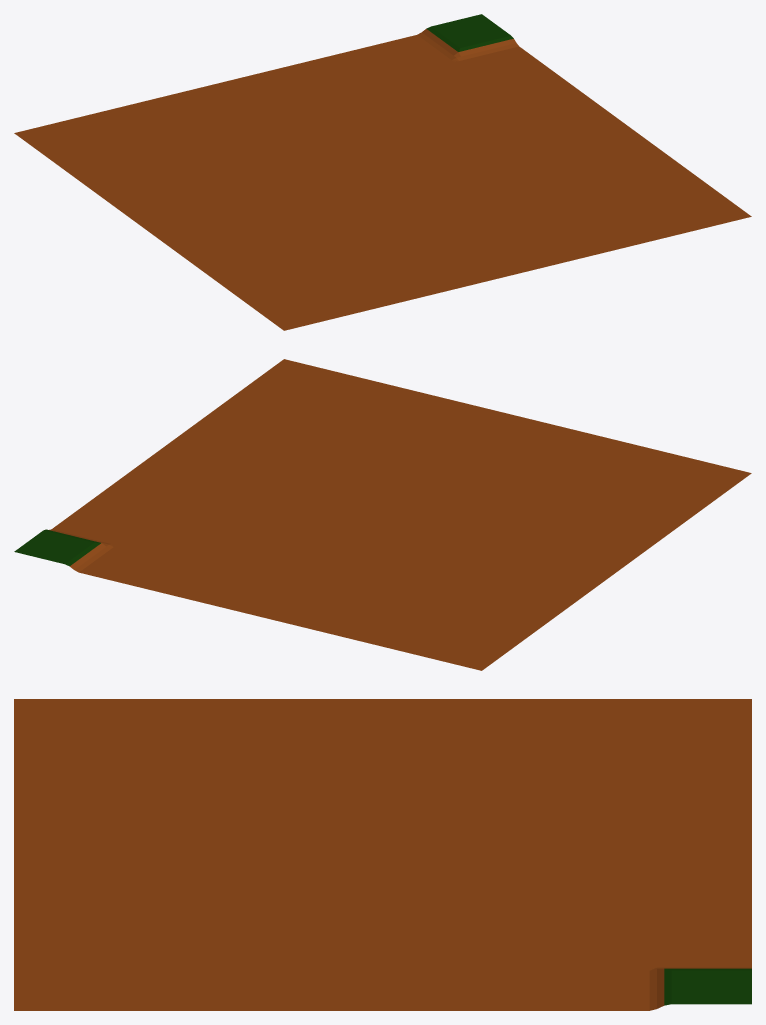
The model's file is Terrain_Part_Plane_17.fbx.
3 renders of one model, top to bottom at view 1: azimuth 30°, elevation 25°; view 2: azimuth 150°, elevation 25°; view 3: azimuth 270°, elevation 25°, orthographic. The views are drawn at different scales.
Parts seen in each view (by area): view 1: Terrain_Part_Plane_17; view 2: Terrain_Part_Plane_17; view 3: Terrain_Part_Plane_17.
Boxes of the visible parts, left/top/right/bottom form: Terrain_Part_Plane_17: left=14, top=14, right=751, bottom=330; Terrain_Part_Plane_17: left=14, top=359, right=751, bottom=670; Terrain_Part_Plane_17: left=14, top=699, right=751, bottom=1010.
Bounding box in the file's own units: 2000 × 20 × 2000.
